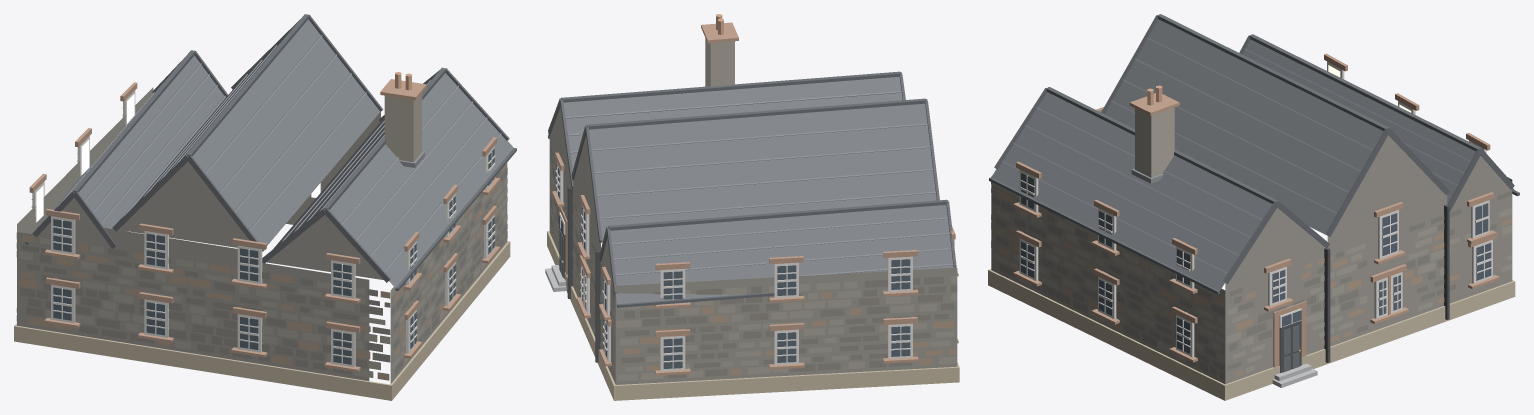
The picture shows the model from 3 angles, left to right: view 1: azimuth 30°, elevation 25°; view 2: azimuth 150°, elevation 25°; view 3: azimuth 270°, elevation 25°; orthographic projection. The views are drawn at different scales.
Parts seen in each view (by area): view 1: slate, rubble, rubble_dk, ss_dk, rubble_lt, frame, slate_lt, ss_red, band_dark, slate_dk, rubble_rust, chim_stone (+8 smaller); view 2: slate, rubble, rubble_dk, rubble_lt, ss_dk, slate_dk, slate_lt, frame, ss_red, band_dark, rubble_rust, chim_stone (+8 smaller); view 3: slate, rubble, ss_dk, rubble_dk, rubble_lt, ss_red, slate_dk, frame, slate_lt, band_dark, rubble_rust, chim_stone (+5 smaller).
Boxes of the visible parts, x1=… form: slate: x1=78, y1=19, x2=513, y2=287; rubble: x1=17, y1=87, x2=507, y2=383; rubble_dk: x1=16, y1=168, x2=507, y2=375; ss_dk: x1=14, y1=241, x2=510, y2=400; rubble_lt: x1=16, y1=178, x2=507, y2=377; frame: x1=31, y1=90, x2=495, y2=367; slate_lt: x1=56, y1=35, x2=501, y2=271; ss_red: x1=29, y1=79, x2=500, y2=372; band_dark: x1=32, y1=15, x2=509, y2=282; slate_dk: x1=25, y1=14, x2=516, y2=290; rubble_rust: x1=16, y1=162, x2=507, y2=380; chim_stone: x1=384, y1=93, x2=422, y2=162; slate: x1=549, y1=76, x2=954, y2=304; rubble: x1=549, y1=107, x2=957, y2=384; rubble_dk: x1=550, y1=146, x2=957, y2=378; rubble_lt: x1=549, y1=162, x2=957, y2=381; ss_dk: x1=547, y1=231, x2=959, y2=400; slate_dk: x1=548, y1=71, x2=947, y2=307; slate_lt: x1=565, y1=91, x2=953, y2=275; frame: x1=555, y1=162, x2=954, y2=371; ss_red: x1=552, y1=22, x2=958, y2=375; band_dark: x1=548, y1=72, x2=956, y2=293; rubble_rust: x1=551, y1=163, x2=957, y2=375; chim_stone: x1=705, y1=38, x2=734, y2=86; slate: x1=991, y1=19, x2=1516, y2=290; rubble: x1=991, y1=135, x2=1512, y2=384; ss_dk: x1=988, y1=269, x2=1515, y2=400; rubble_dk: x1=991, y1=188, x2=1512, y2=380; rubble_lt: x1=991, y1=182, x2=1512, y2=372; ss_red: x1=1013, y1=53, x2=1499, y2=367; slate_dk: x1=989, y1=14, x2=1519, y2=294; frame: x1=1019, y1=61, x2=1492, y2=357; slate_lt: x1=1002, y1=37, x2=1470, y2=273; band_dark: x1=994, y1=15, x2=1514, y2=284; rubble_rust: x1=997, y1=190, x2=1512, y2=376; chim_stone: x1=1135, y1=107, x2=1174, y2=177.
Size of the model in its own units: 19.06 by 9.57 by 18.97.
